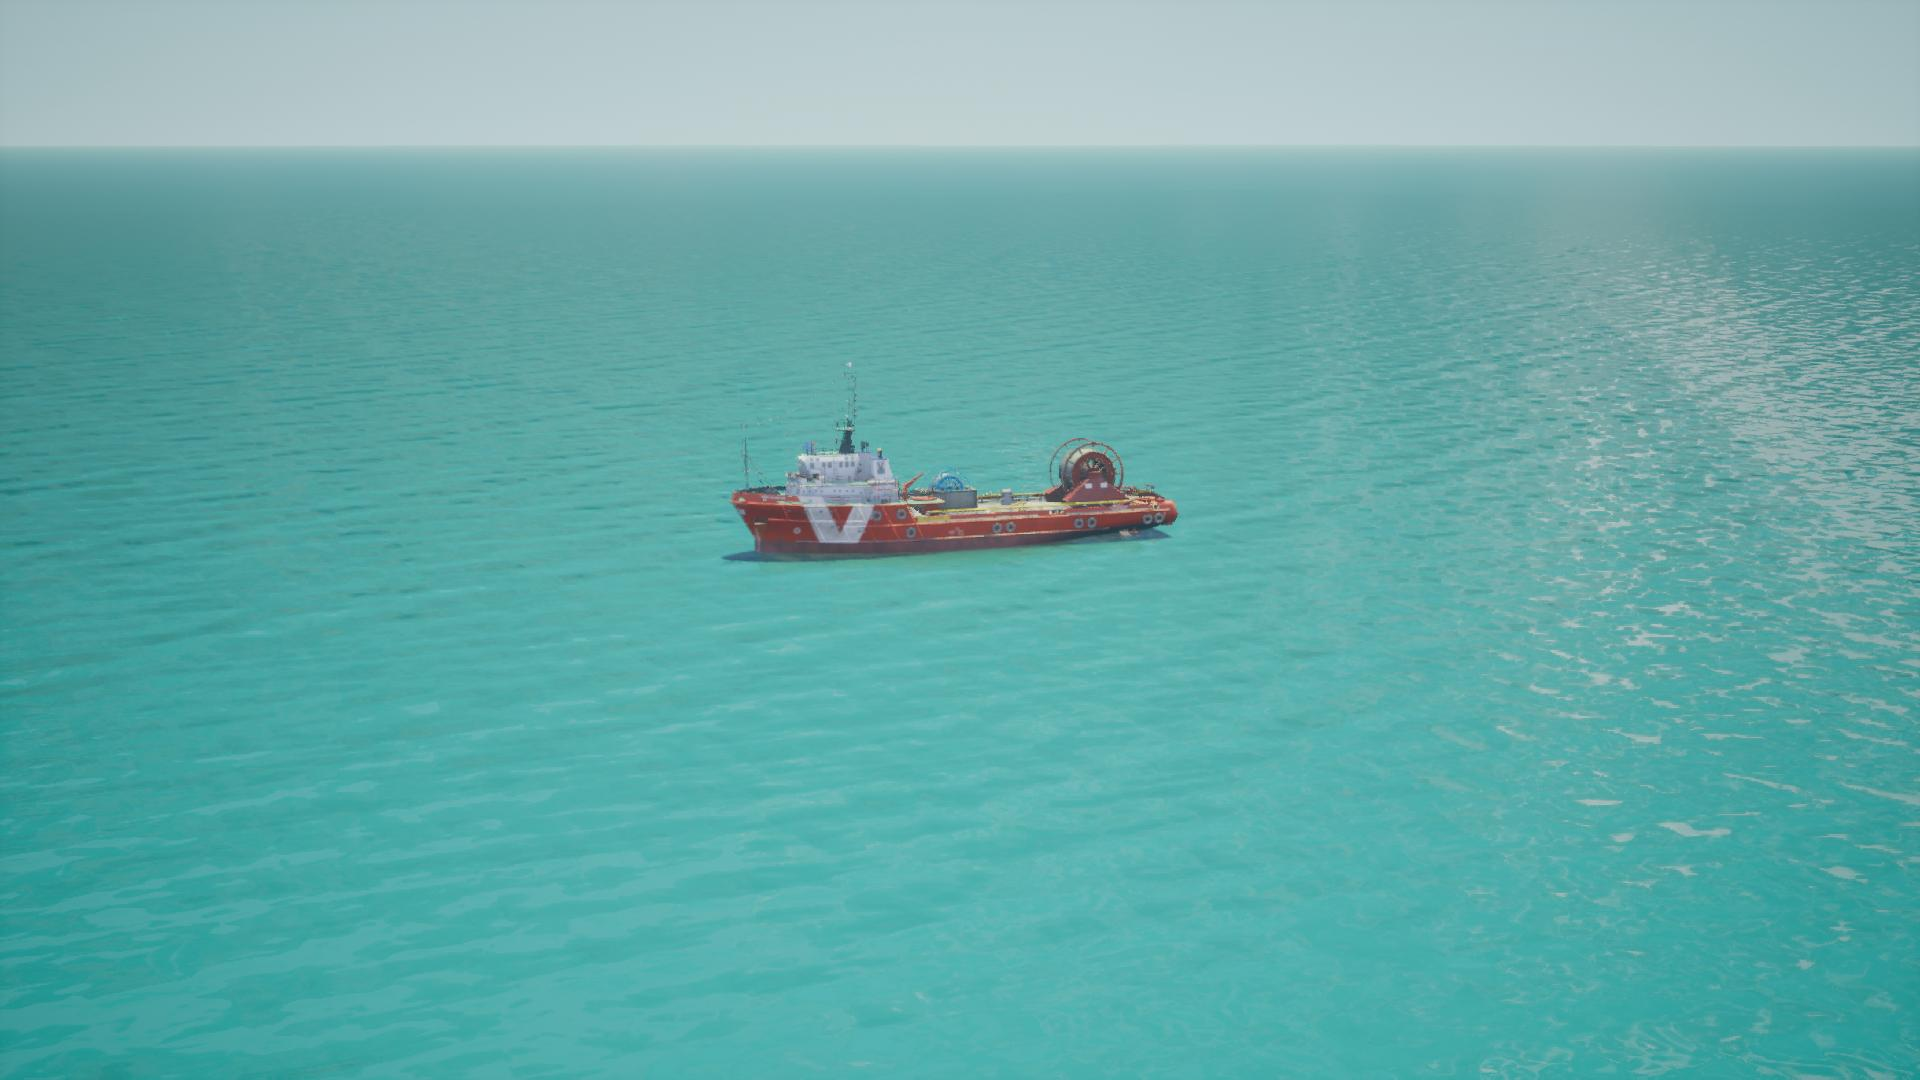Tug Boat: (720, 365, 1175, 570)
